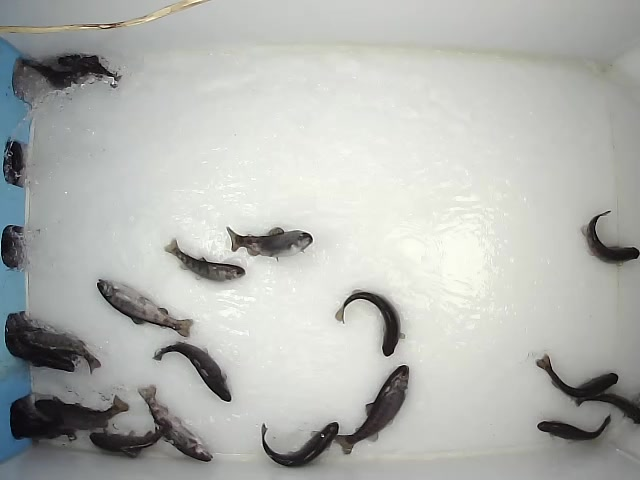fish: (330, 363, 411, 456), (137, 382, 214, 463), (95, 278, 194, 338), (150, 339, 233, 403), (333, 288, 407, 357), (163, 236, 246, 284), (260, 420, 339, 469), (535, 352, 619, 398), (34, 393, 131, 431), (579, 209, 640, 269), (224, 224, 315, 264), (89, 416, 172, 459), (536, 412, 612, 442), (575, 393, 640, 427)
